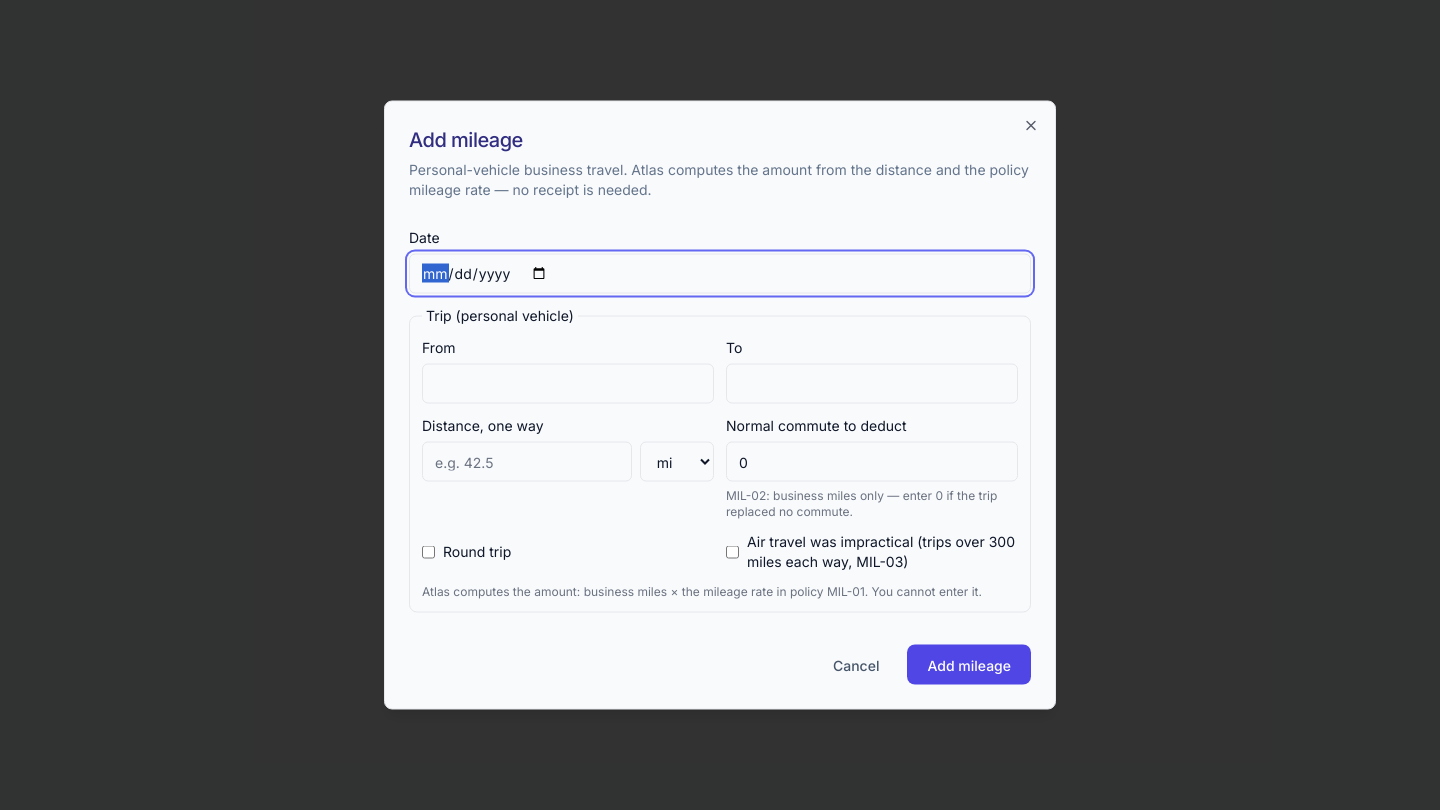
Scenario: Add mileage dialog › asks for a date and a valid distance first
The width and height of the screenshot is (1440, 810).
Step 1. Click the button "Add mileage" → [969, 664], box [907,644,1031,684]
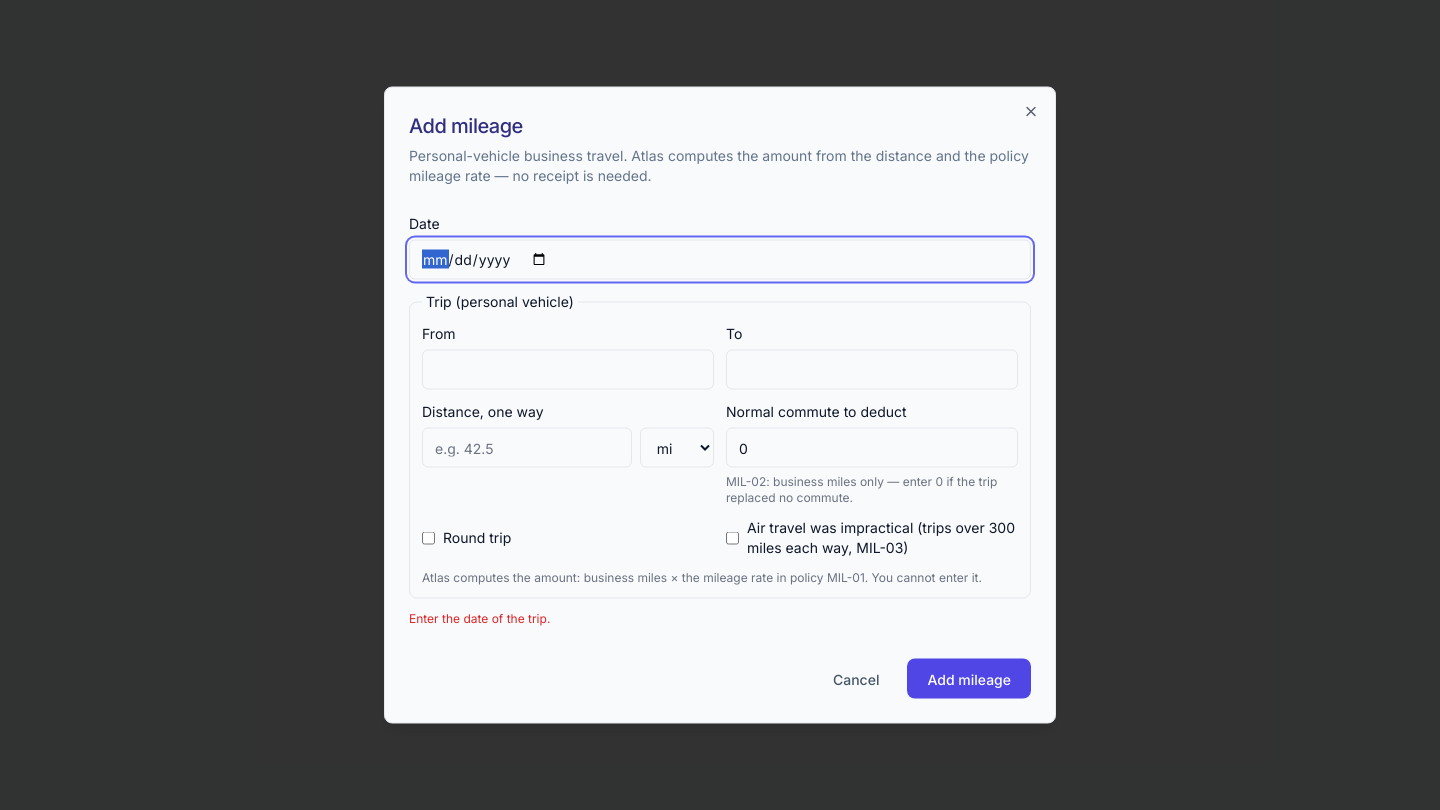
Expected: the message shows "date", [409,610,550,626]
